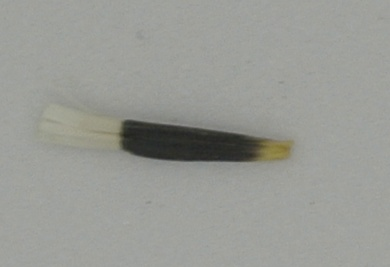เมล็ดดีติดกัน: (34, 101, 295, 167)
